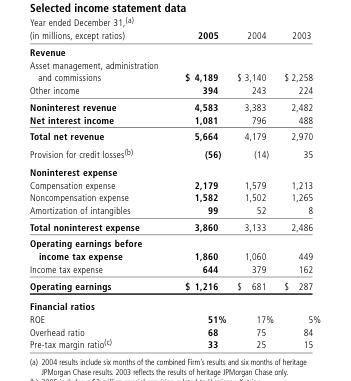table: (28, 29, 320, 349)
table column: (28, 29, 170, 349), (170, 29, 230, 349), (230, 29, 278, 349), (278, 29, 320, 349)
table column header: (28, 29, 320, 43)
table projected row header: (28, 295, 320, 312), (28, 162, 320, 178), (28, 43, 320, 58)
table row: (28, 234, 320, 262), (28, 58, 320, 83), (28, 276, 320, 295), (28, 144, 320, 162), (28, 127, 320, 144), (28, 295, 320, 312), (28, 162, 320, 178), (28, 218, 320, 234), (28, 43, 320, 58), (28, 83, 320, 98), (28, 112, 320, 127), (28, 203, 320, 218), (28, 29, 320, 43), (28, 98, 320, 112), (28, 262, 320, 276), (28, 190, 320, 203), (28, 336, 320, 349), (28, 178, 320, 190), (28, 312, 320, 324), (28, 324, 320, 336)
